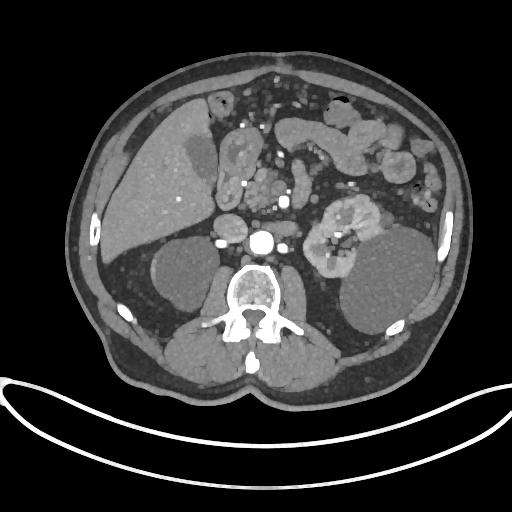Lesion: (348, 193, 367, 208)
